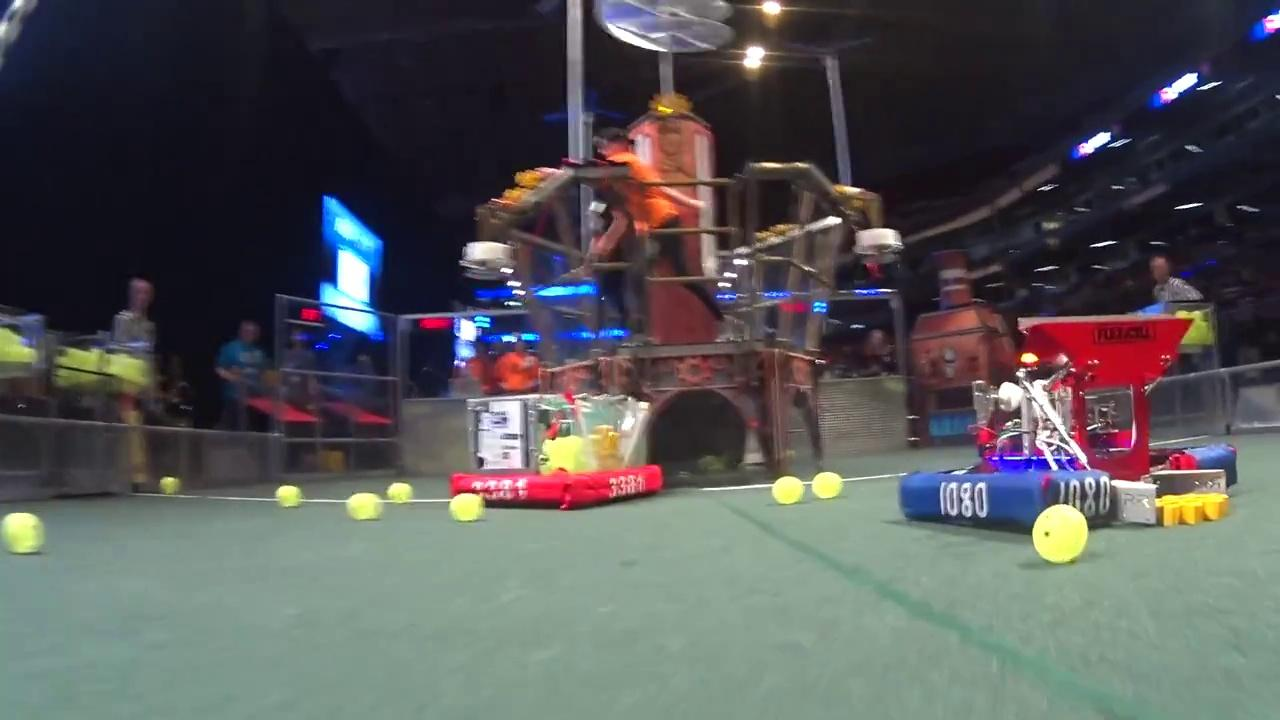robot: (892, 307, 1242, 539), (447, 387, 667, 512)
